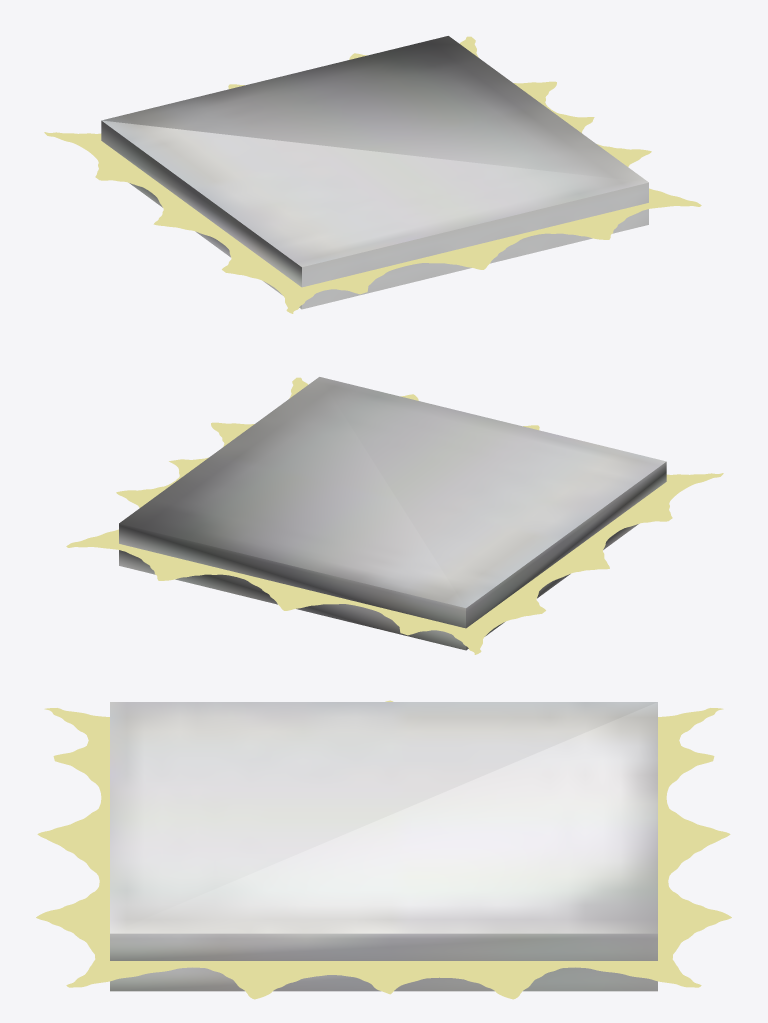
The model's file is garden_sign.glb.
3 renders of one model, top to bottom at view 1: azimuth 30°, elevation 25°; view 2: azimuth 150°, elevation 25°; view 3: azimuth 270°, elevation 25°, orthographic. The views are drawn at different scales.
Parts seen in each view (by area): view 1: sign1, glow, sign2; view 2: sign1, glow, sign2; view 3: sign1, glow, sign2.
Part boxes in pixels (x1,y1,x2,y2): sign1: (101,36,648,287); glow: (44,36,701,313); sign2: (129,183,648,309); sign1: (119,377,666,628); glow: (66,377,723,654); sign2: (119,524,638,650); sign1: (110,702,657,960); glow: (36,700,731,999); sign2: (110,967,657,991).
Size of the model in its own units: 1.74 by 0.15 by 1.74.
2 materials, 2 textured.
